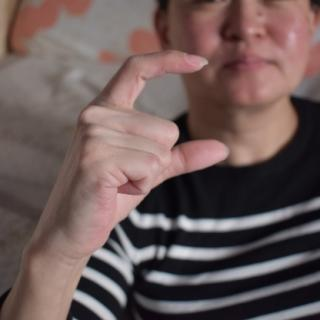DELL: (38, 44, 232, 252)
